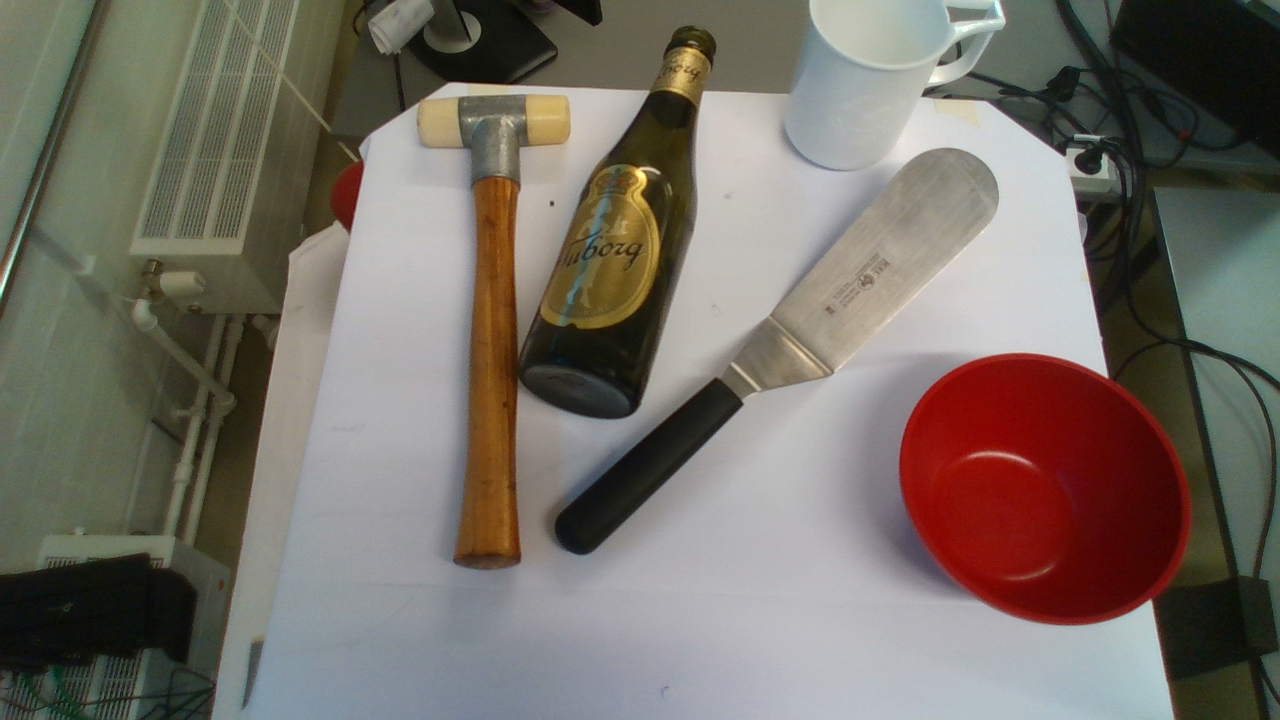bottle: (520, 25, 717, 417)
bowl: (900, 353, 1192, 627)
cup: (555, 148, 1000, 556), (778, 1, 1006, 166)
hammer: (414, 87, 572, 570)
